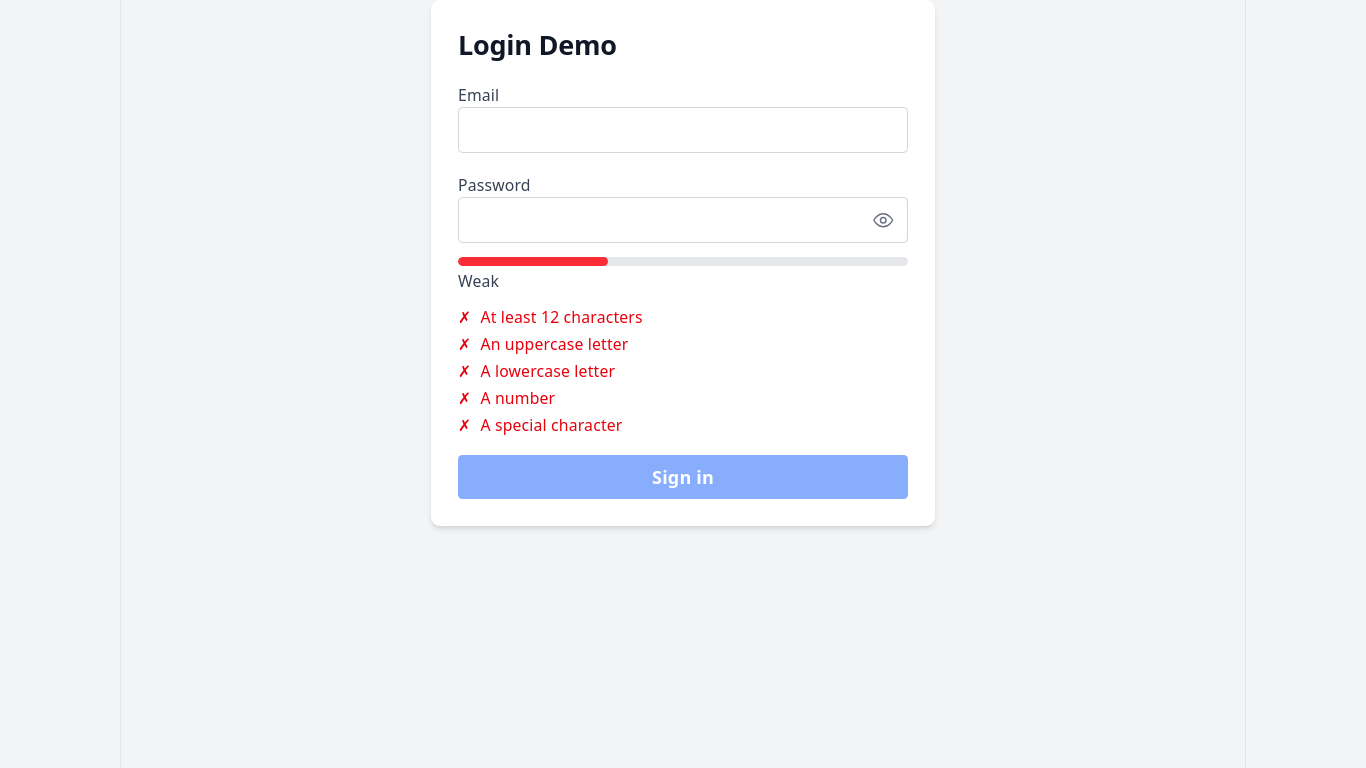
LoginDemo › form validation › enables the submit button when the email and password are valid
The width and height of the screenshot is (1366, 768).
Type "demo@example.com" into the field labelled "Email".
click(683, 130); type("demo@example.com")  # box [458,107,908,153]
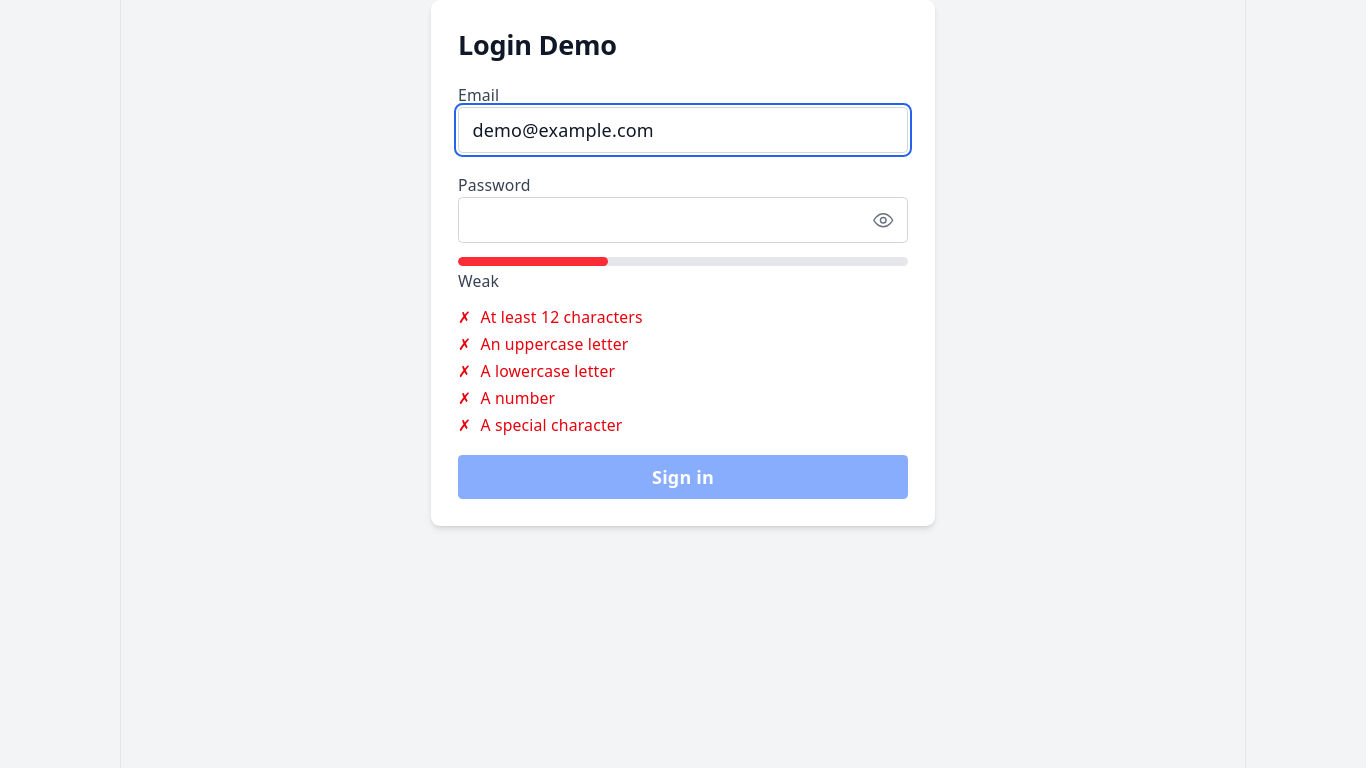
Type "MyS3cure!Passw0rd" into the password field named "Password".
click(683, 220); type("MyS3cure!Passw0rd")  # box [458,197,908,243]
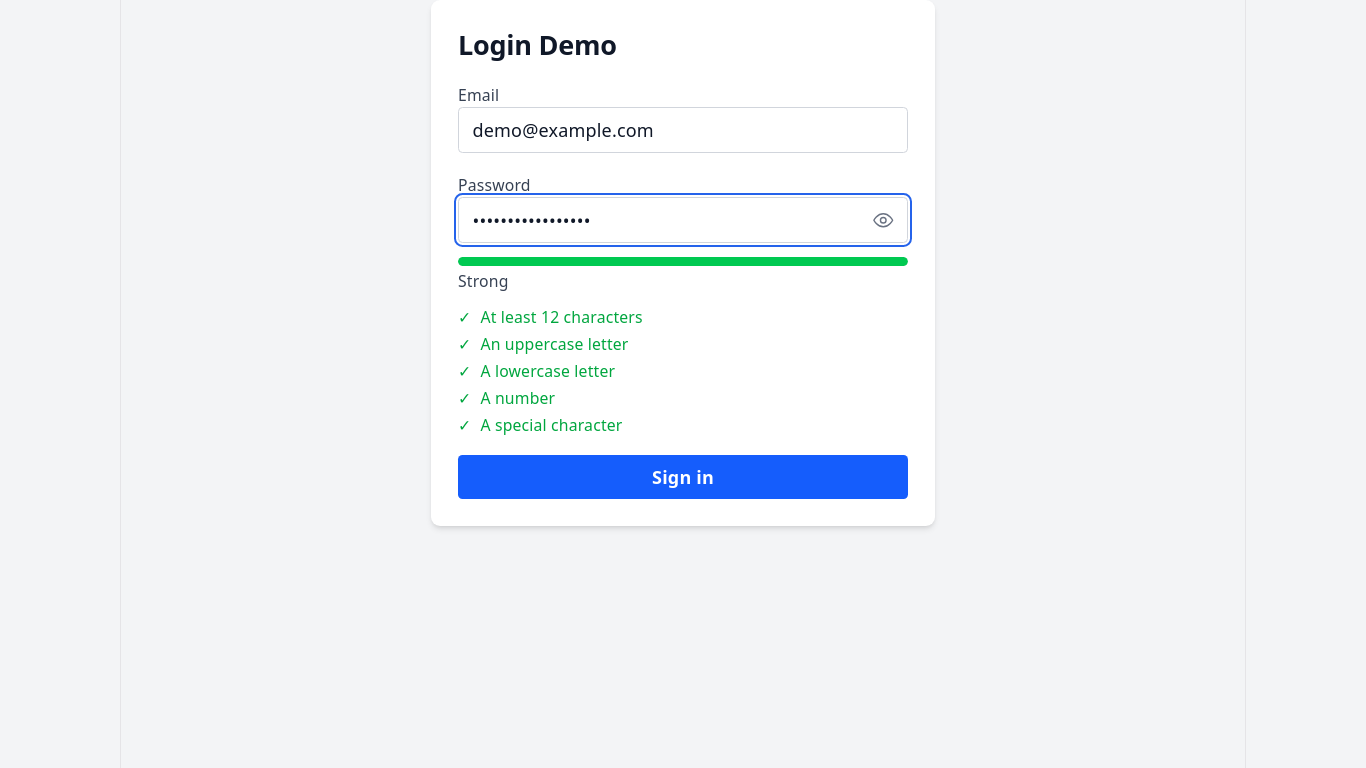
Expected: the button "Sign in" is enabled, [458,455,908,499]
